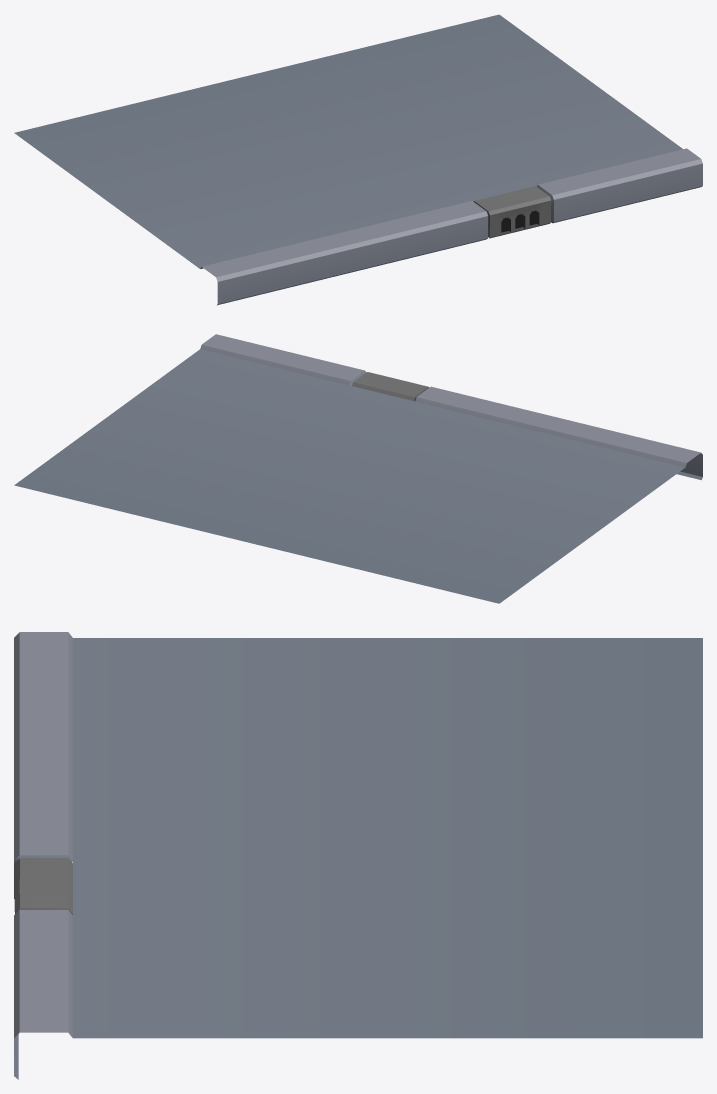
Rendered from Infra_sidewalk_WithDrain_mdl.fbx.
3 views of the same model, one above another, from view 1: azimuth 30°, elevation 25°; view 2: azimuth 150°, elevation 25°; view 3: azimuth 270°, elevation 25° (orthographic). The views are drawn at different scales.
Visible parts, largest first — view 1: street002_drain_mesh; view 2: street002_drain_mesh; view 3: street002_drain_mesh.
Boxes of the visible parts, <box> form: street002_drain_mesh: <box>14,14,702,305</box>; street002_drain_mesh: <box>14,334,702,603</box>; street002_drain_mesh: <box>14,632,702,1079</box>.
Bounding box in the file's own units: 603 × 33.22 × 439.
